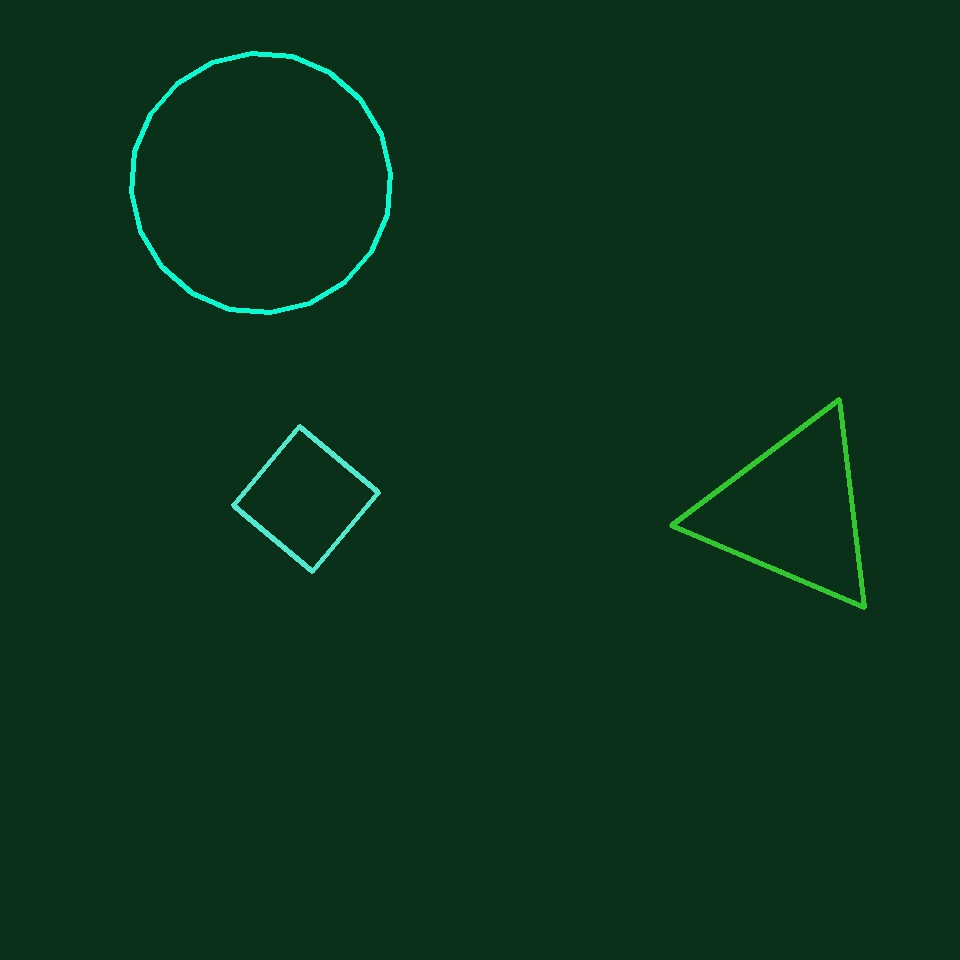circle: (695, 407, 888, 615)
square: (234, 426, 378, 572)
triangle: (132, 54, 390, 312)
